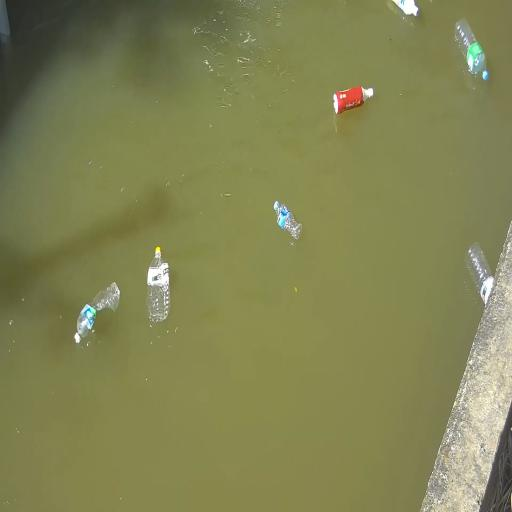plastic: (75, 283, 119, 343), (455, 19, 488, 80), (147, 247, 170, 324), (467, 244, 494, 305), (334, 87, 373, 114), (274, 202, 302, 239)
